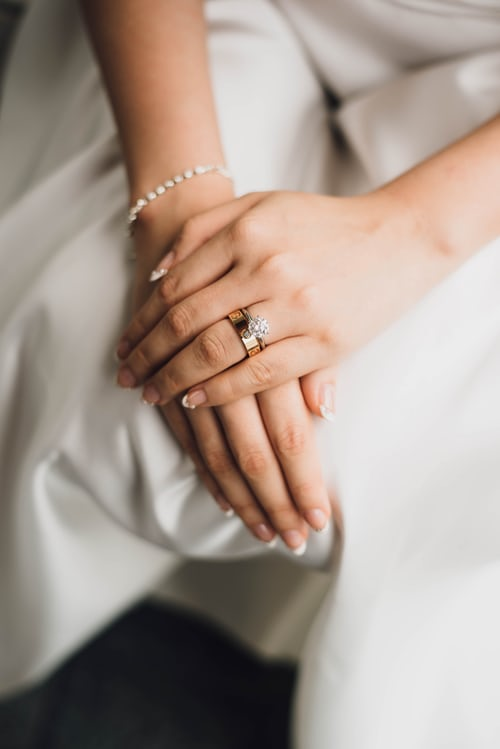ring: (208, 294, 275, 358)
